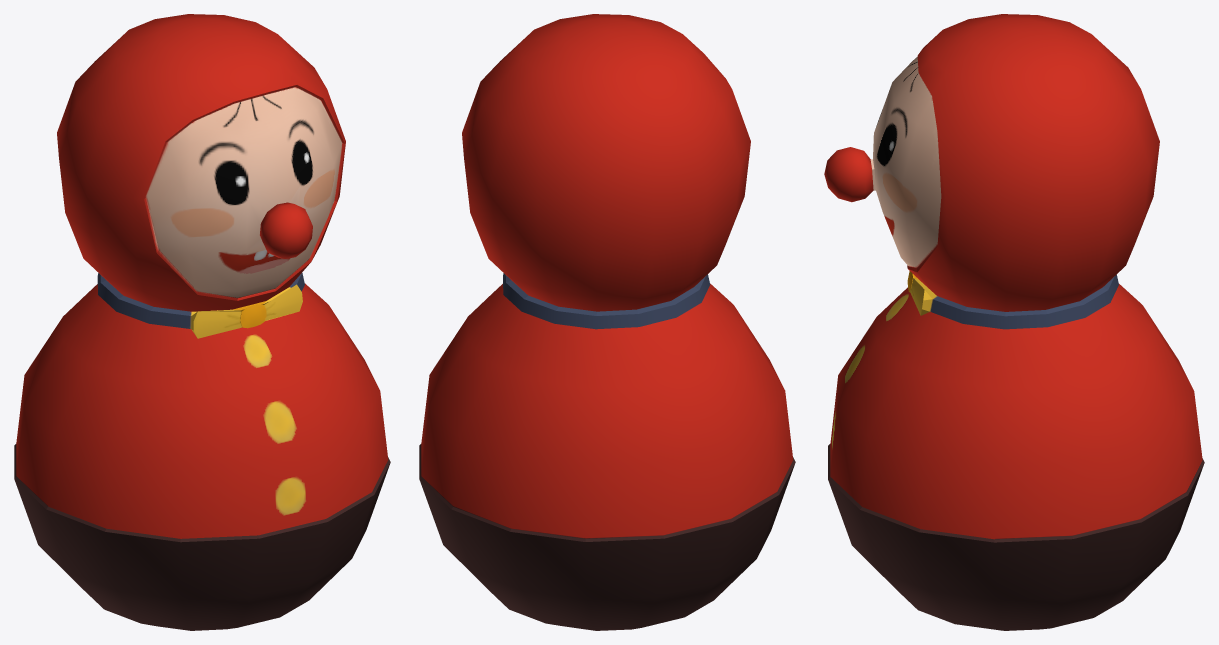
The model's file is Dwarf2.fbx.
3 views of the same model, side by side, from view 1: azimuth 30°, elevation 25°; view 2: azimuth 150°, elevation 25°; view 3: azimuth 270°, elevation 25° (orthographic).
Visible parts, largest first — view 1: Dwarf; view 2: Dwarf; view 3: Dwarf.
Part boxes in pixels (x1,y1,x2,y2): Dwarf: [14, 14, 390, 630]; Dwarf: [419, 14, 795, 630]; Dwarf: [824, 14, 1204, 630].
Bounding box in the file's own units: 8.01 × 13.44 × 8.04.
1 material, 1 textured.
